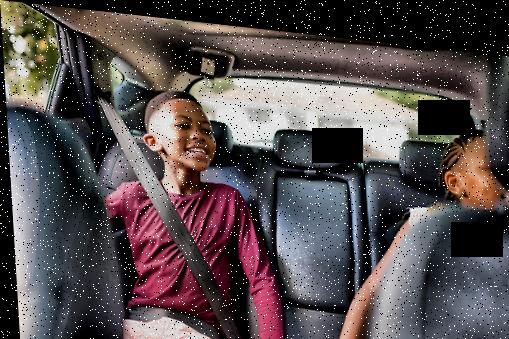seatbelt: (90, 91, 253, 339)
